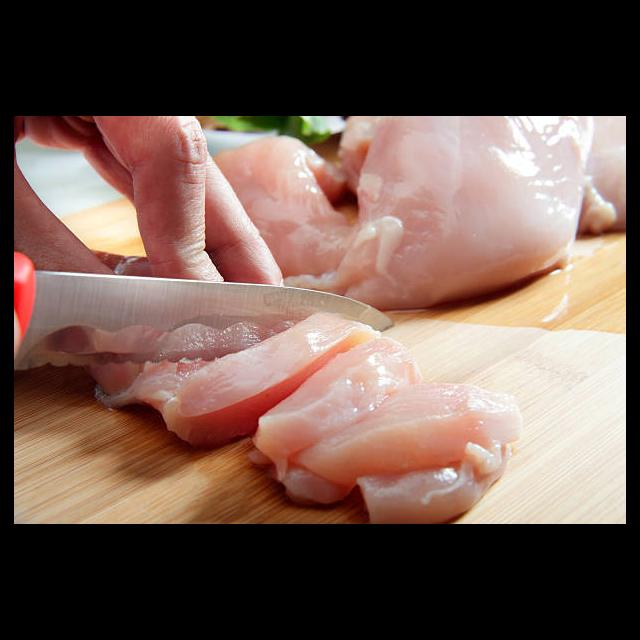chicken: (94, 311, 521, 524), (214, 116, 593, 312)
